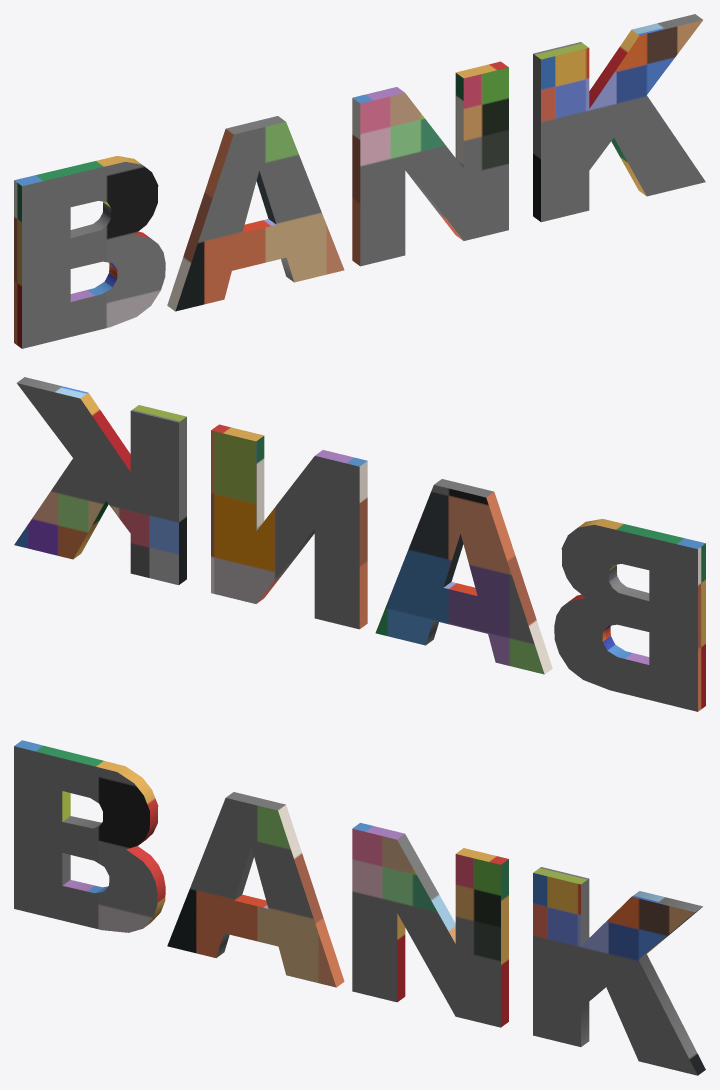
Rendered from BankFont.fbx.
The picture shows the model from 3 angles, top to bottom: view 1: azimuth 30°, elevation 25°; view 2: azimuth 150°, elevation 25°; view 3: azimuth 330°, elevation 25°; orthographic projection.
Visible parts, largest first — view 1: Text.002; view 2: Text.002; view 3: Text.002.
Part boxes in pixels (left/top/right/bottom): Text.002: left=14, top=14, right=705, bottom=348; Text.002: left=14, top=377, right=705, bottom=711; Text.002: left=14, top=740, right=705, bottom=1075.
Size of the model in its own units: 2.46 by 0.5597 by 0.0507.
